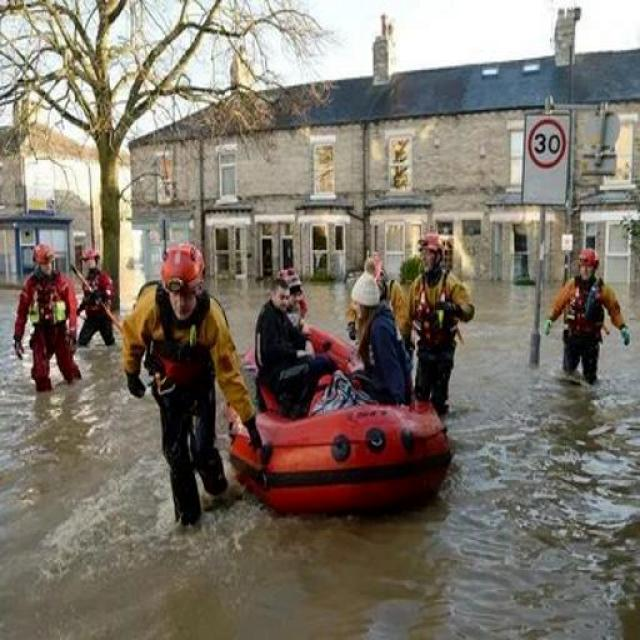civilian: (344, 282, 416, 412), (260, 286, 318, 429), (286, 278, 312, 348)
rescuer: (115, 236, 257, 556), (404, 222, 486, 416), (547, 238, 638, 394), (20, 229, 89, 399), (70, 230, 140, 358), (347, 249, 420, 335)
